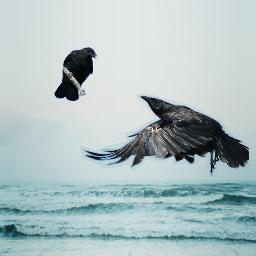Crow: (80, 94, 249, 177), (54, 47, 98, 101)
